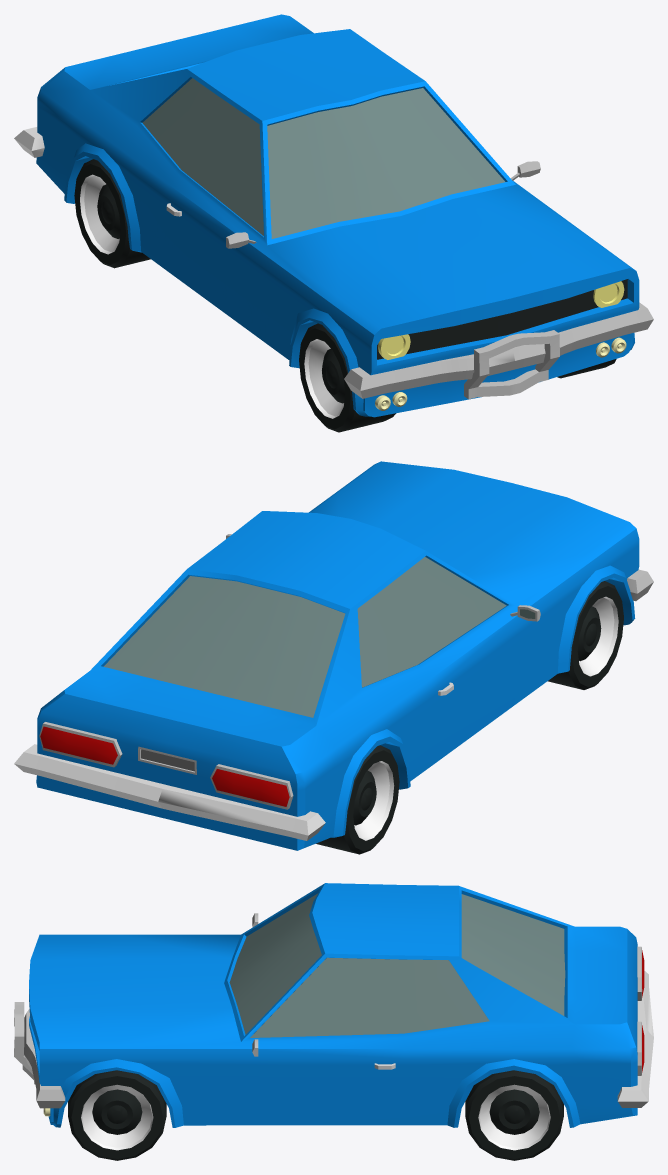
The model's file is car_3.dae.
3 views of the same model, one above another, from view 1: azimuth 30°, elevation 25°; view 2: azimuth 150°, elevation 25°; view 3: azimuth 270°, elevation 25° (orthographic). The views are drawn at different scales.
Parts seen in each view (by area): view 1: car2, whell, whell.001; view 2: car2, whell.001, whell; view 3: car2, whell.002, whell.003.
Part boxes in pixels (x1,y1,x2,y2): car2: (14, 14, 653, 417); whell: (299, 323, 395, 432); whell.001: (74, 159, 150, 268); car2: (14, 461, 653, 850); whell.001: (316, 745, 399, 854); whell: (548, 581, 623, 689); car2: (14, 883, 653, 1127); whell.002: (465, 1070, 563, 1160); whell.003: (68, 1070, 166, 1160).
Bounding box in the file's own units: 2.43 × 1.61 × 4.88.
1 material, 1 textured.
